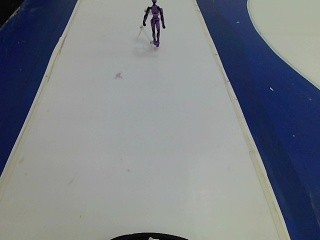pedestrian: (138, 0, 166, 50)
